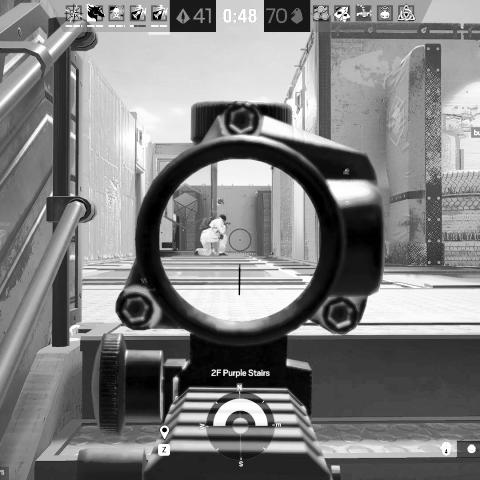Character: (193, 214, 230, 256)
Friend_label: (328, 167, 363, 185), (209, 198, 231, 213)
Head: (219, 214, 227, 222)
